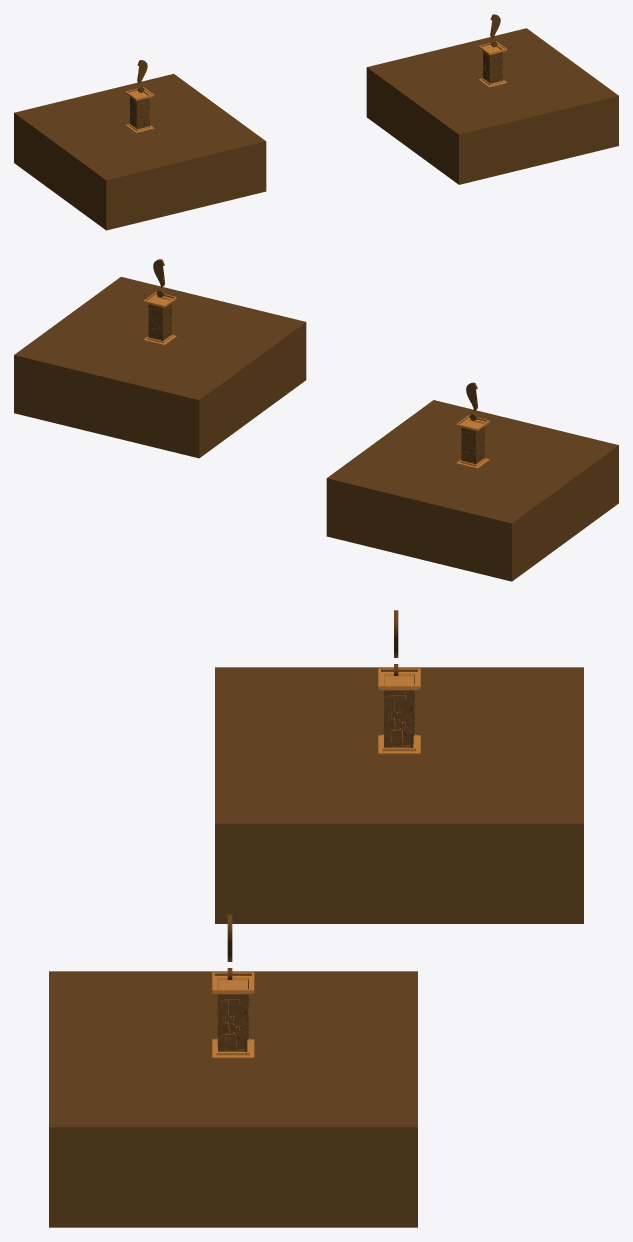
File: just_questions.fbx
3 renders of one model, top to bottom at view 1: azimuth 30°, elevation 25°; view 2: azimuth 150°, elevation 25°; view 3: azimuth 270°, elevation 25°, orthographic. The views are drawn at different scales.
Visible parts, largest first — view 1: Cover.002, Cover.003; view 2: Cover.002, Cover.003; view 3: Cover.002, Cover.003.
Boxes of the visible parts, bbox=[...] form: Cover.002: bbox=[366, 28, 618, 184]; Cover.003: bbox=[14, 74, 266, 230]; Cover.002: bbox=[14, 277, 306, 458]; Cover.003: bbox=[326, 400, 618, 581]; Cover.002: bbox=[49, 971, 417, 1227]; Cover.003: bbox=[215, 667, 583, 923].
Bounding box in the file's own units: 32.66 × 7.77 × 16.07.
